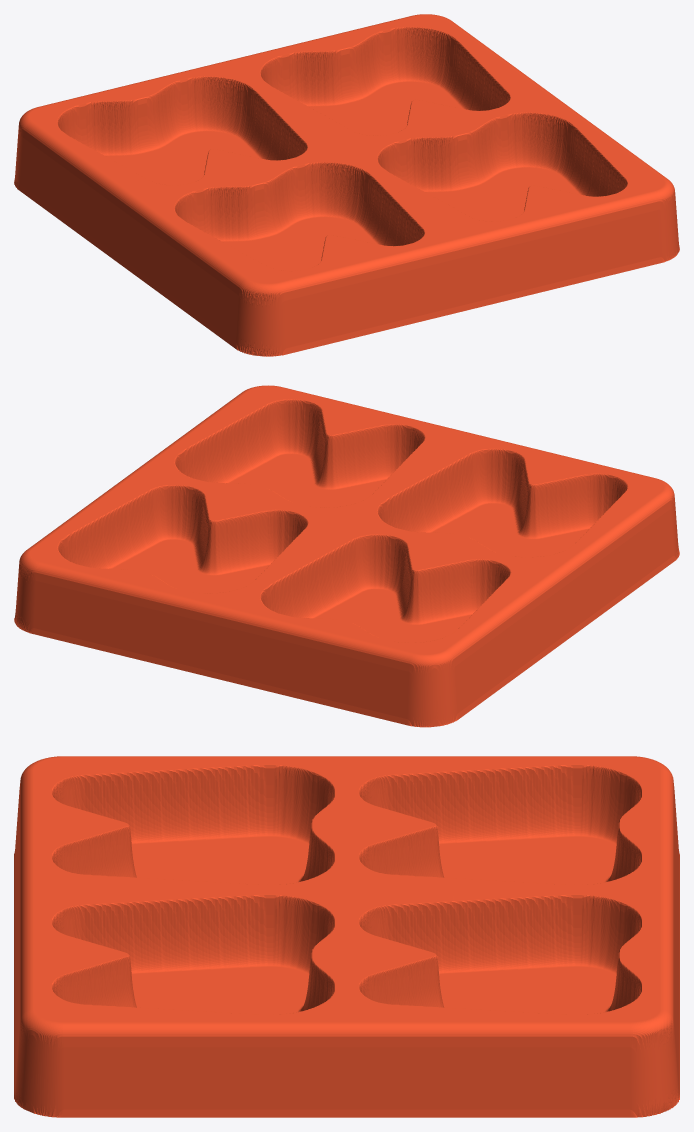
File: mold.glb
3 views of the same model, one above another, from view 1: azimuth 30°, elevation 25°; view 2: azimuth 150°, elevation 25°; view 3: azimuth 270°, elevation 25° (orthographic). The views are drawn at different scales.
Parts seen in each view (by area): view 1: geometry_0; view 2: geometry_0; view 3: geometry_0.
Part boxes in pixels (x1,y1,x2,y2): geometry_0: [14, 14, 679, 356]; geometry_0: [14, 385, 679, 727]; geometry_0: [14, 756, 679, 1117].
Size of the model in its own units: 0.1211 by 0.0175 by 0.1211.
